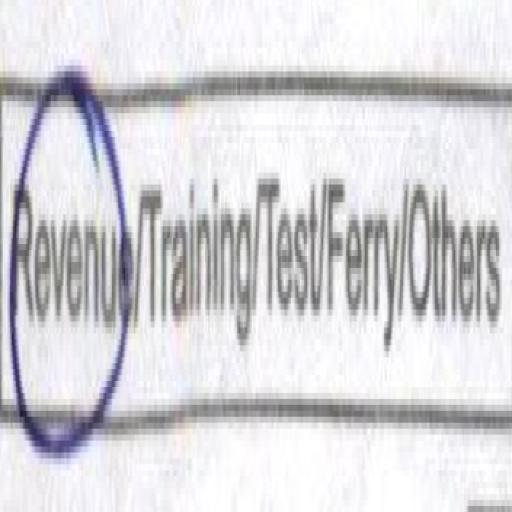check: (0, 28, 137, 473)
